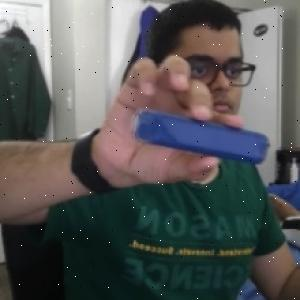Diamond-E-Ciggirate: (125, 101, 278, 170), (206, 99, 206, 103)
